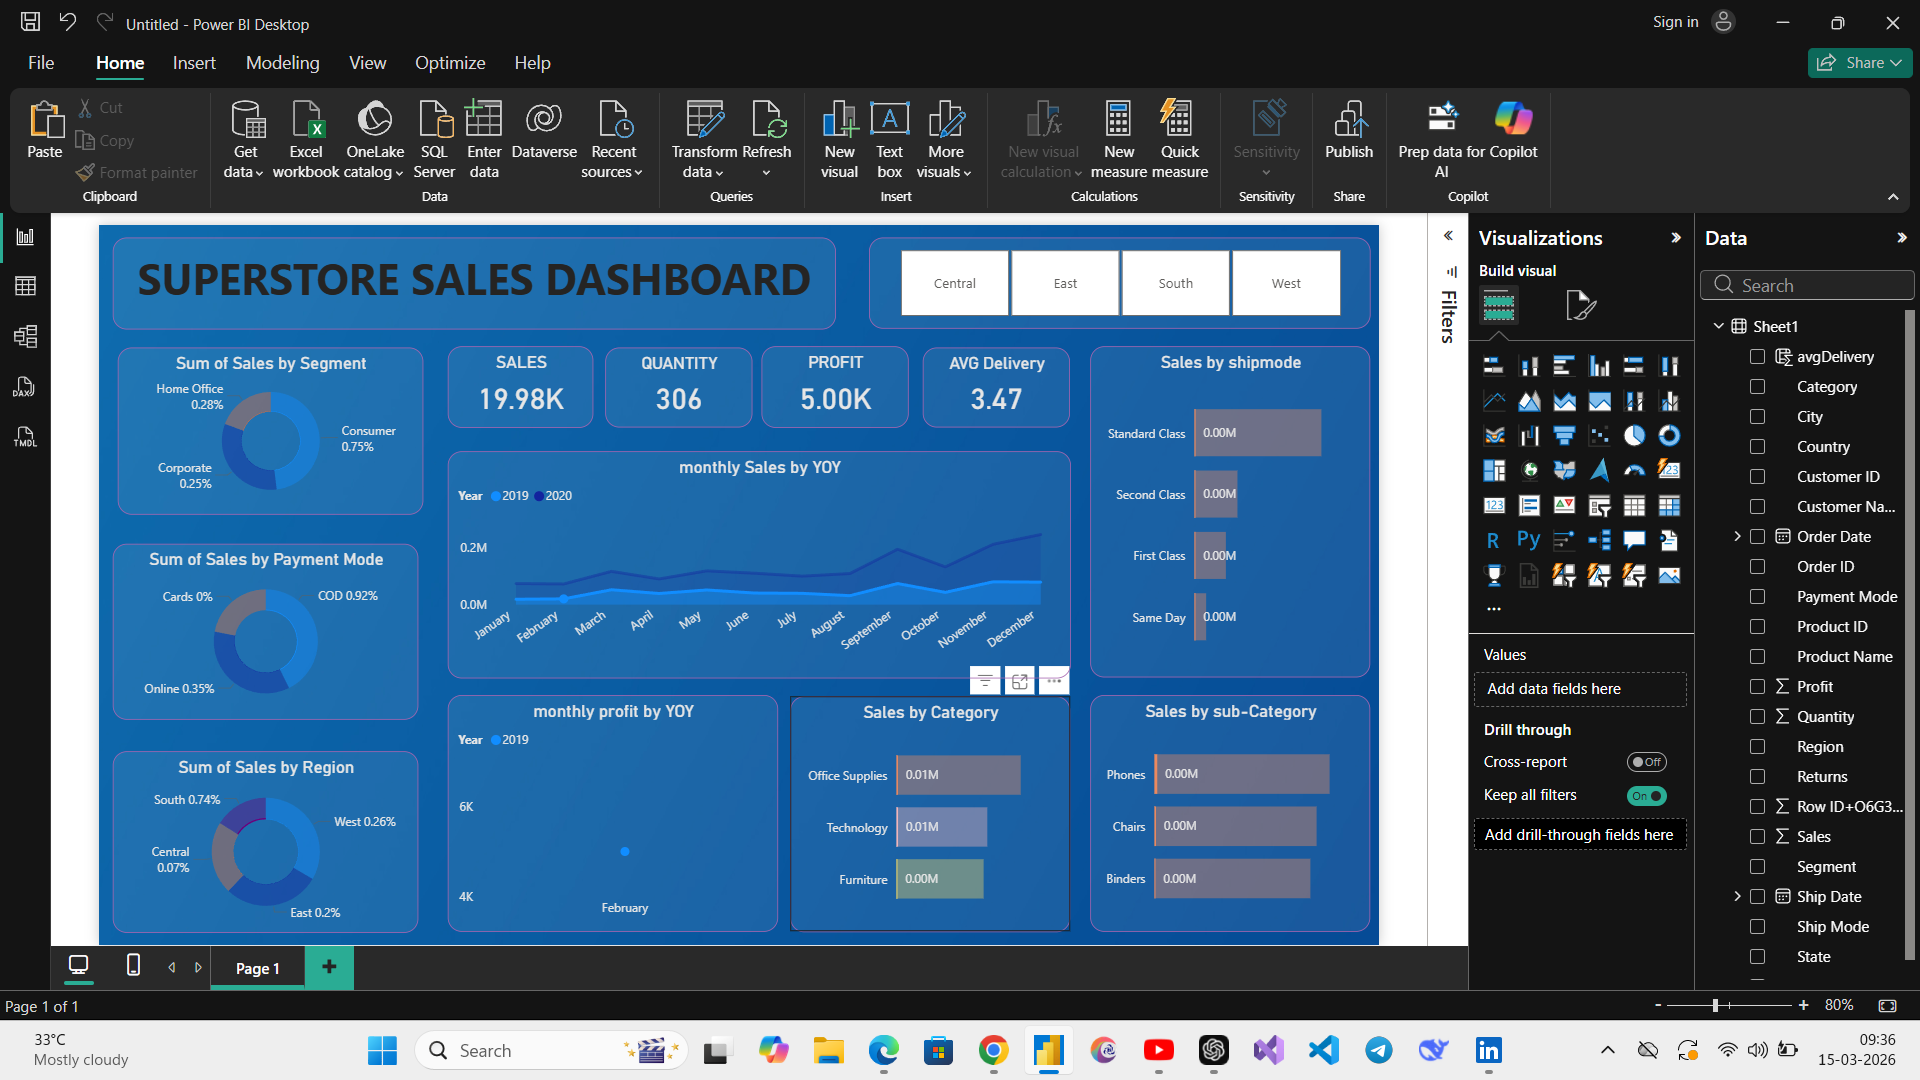

The dashboard page shown, as its layout file describes it:
{"tool":"powerbi","page":{"name":"Page 1","canvas":[1280,720],"ordinal":0},"visuals":[{"type":"clusteredBarChart","title":" Sales by Category","fields":{"Category":["Sheet1.Category"],"Y":["Sum(Sheet1.Sales)"]},"box":[691.6,470.7,279.9,236],"z":0},{"type":"clusteredBarChart","title":" Sales by sub-Category","fields":{"Category":["Sheet1.Sub-Category"],"Y":["Sum(Sheet1.Sales)"]},"box":[991.4,470,280,237.1],"z":1000},{"type":"clusteredBarChart","title":" Sales by shipmode","fields":{"Category":["Sheet1.Ship Mode"],"Y":["Sum(Sheet1.Sales)"]},"box":[991.4,121.4,280,331.4],"z":2000},{"type":"stackedAreaChart","title":"monthly Sales by YOY","fields":{"Category":["Sheet1.Order Date.Variation.Date Hierarchy.Month","Sheet1.Order Date.Variation.Date Hierarchy.Day"],"Y":["Sum(Sheet1.Sales)"],"Series":["Sheet1.Order Date.Variation.Date Hierarchy.Year"]},"box":[348.6,225.7,622.9,227.1],"z":3000},{"type":"stackedAreaChart","title":"monthly profit by YOY","fields":{"Category":["Sheet1.Order Date.Variation.Date Hierarchy.Month","Sheet1.Order Date.Variation.Date Hierarchy.Day"],"Series":["Sheet1.Order Date.Variation.Date Hierarchy.Year"],"Y":["Sum(Sheet1.Profit)"]},"box":[348.6,470,330,237.1],"z":4000},{"type":"donutChart","fields":{"Category":["Sheet1.Segment"],"Y":["Sum(Sheet1.Sales)"]},"box":[18.6,122.9,305.7,167.1],"z":4001},{"type":"donutChart","fields":{"Y":["Sum(Sheet1.Sales)"],"Category":["Sheet1.Payment Mode"]},"box":[14.3,318.6,305.7,175.7],"z":4002},{"type":"slicer","fields":{"Values":["Sheet1.Region"]},"box":[770,12.9,501.4,91.4],"z":4003},{"type":"textbox","box":[13.7,12.3,723.2,91.9],"z":4004},{"type":"card","title":"QUANTITY","fields":{"Values":["Sum(Sheet1.Quantity)"]},"box":[505.7,122.9,147.1,80],"z":4005},{"type":"card","title":"PROFIT","fields":{"Values":["Sum(Sheet1.Profit)"]},"box":[662.9,121.4,147.1,81.4],"z":4006},{"type":"card","title":"AVG Delivery","fields":{"Values":["Avg(Sheet1.avgDelivery)"]},"box":[824.3,122.9,147.1,80],"z":4007},{"type":"card","title":"SALES","fields":{"Values":["Sum(Sheet1.Sales)"]},"box":[348.6,121.4,145.7,81.4],"z":4008},{"type":"donutChart","fields":{"Y":["Sum(Sheet1.Sales)"],"Category":["Sheet1.Region"]},"box":[14.3,525.7,305.7,181.4],"z":4009}]}

Visuals, with their boxes on the page's 1280x720 design canvas (x1, y1, x2, y2). These are canvas units, not pixel positions in the 1920x1080 screenshot, which may show the page scaled, cropped or inside an application window:
" Sales by Category" clusteredBarChart: rect(692, 471, 972, 707)
" Sales by sub-Category" clusteredBarChart: rect(991, 470, 1271, 707)
" Sales by shipmode" clusteredBarChart: rect(991, 121, 1271, 453)
"monthly Sales by YOY" stackedAreaChart: rect(349, 226, 972, 453)
"monthly profit by YOY" stackedAreaChart: rect(349, 470, 679, 707)
donutChart - Sheet1.Segment x Sum(Sheet1.Sales): rect(19, 123, 324, 290)
donutChart - Sum(Sheet1.Sales) x Sheet1.Payment Mode: rect(14, 319, 320, 494)
slicer - Sheet1.Region: rect(770, 13, 1271, 104)
textbox: rect(14, 12, 737, 104)
"QUANTITY" card: rect(506, 123, 653, 203)
"PROFIT" card: rect(663, 121, 810, 203)
"AVG Delivery" card: rect(824, 123, 971, 203)
"SALES" card: rect(349, 121, 494, 203)
donutChart - Sum(Sheet1.Sales) x Sheet1.Region: rect(14, 526, 320, 707)
